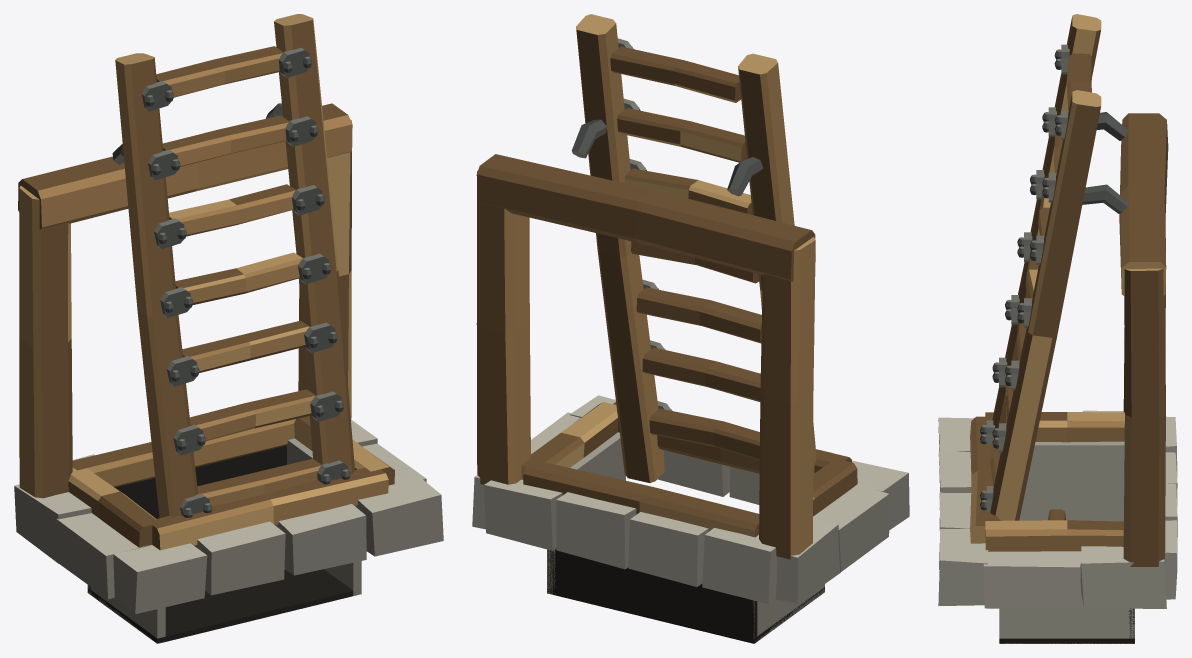
The model's file is cellar_ladder_hatch_v1.glb.
The picture shows the model from 3 angles, left to right: view 1: azimuth 30°, elevation 25°; view 2: azimuth 150°, elevation 25°; view 3: azimuth 270°, elevation 25°; orthographic projection. The views are drawn at different scales.
Parts seen in each view (by area): view 1: HatchRuntimeMesh, LadderRuntimeMesh, DescentRuntimeMesh; view 2: HatchRuntimeMesh, LadderRuntimeMesh, DescentRuntimeMesh; view 3: HatchRuntimeMesh, LadderRuntimeMesh, DescentRuntimeMesh.
Part boxes in pixels (bbox=[...]): HatchRuntimeMesh: bbox=[14, 103, 443, 614]; LadderRuntimeMesh: bbox=[112, 14, 354, 517]; DescentRuntimeMesh: bbox=[87, 438, 361, 643]; HatchRuntimeMesh: bbox=[472, 154, 909, 603]; LadderRuntimeMesh: bbox=[571, 14, 816, 482]; DescentRuntimeMesh: bbox=[547, 432, 824, 643]; HatchRuntimeMesh: bbox=[938, 113, 1177, 608]; LadderRuntimeMesh: bbox=[980, 14, 1128, 520]; DescentRuntimeMesh: bbox=[999, 441, 1134, 643].
Size of the model in its own units: 1.57 by 2.64 by 1.04.
